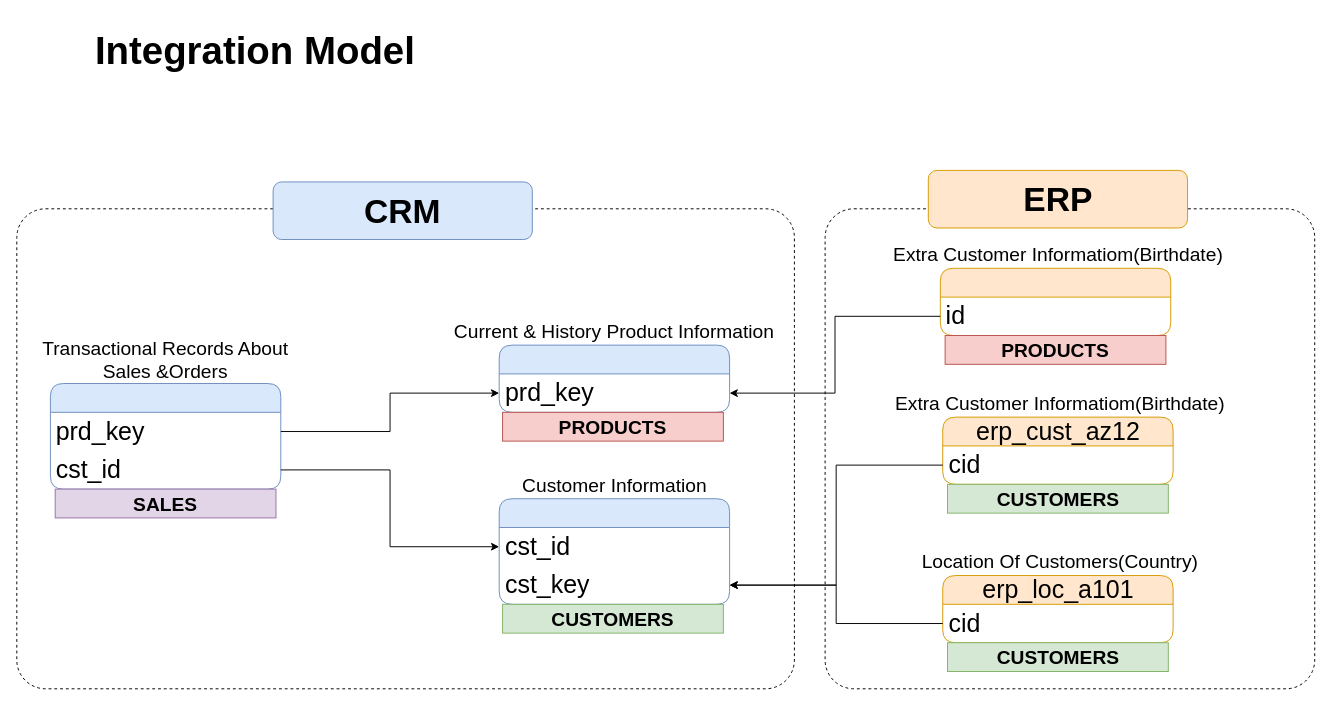
The diagram is 1332 pixels wide and 706 high, and some of its shapes have lost their labels. The box of each missing label's shape, as (x1, y1, x2, y2) in pixels:
crm_cust_info: (498, 498, 730, 604)
crm_prd_info: (498, 344, 730, 412)
crm_sales_details: (49, 383, 281, 489)
erp_px_cat_g1v2: (939, 267, 1171, 336)
